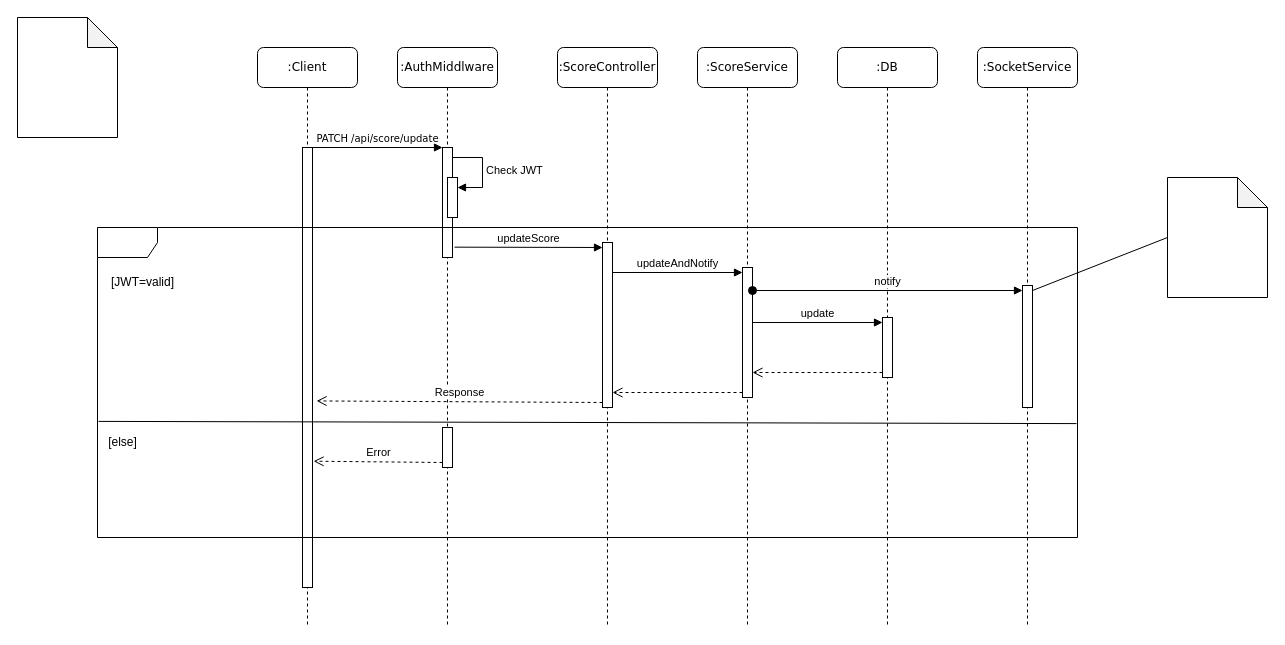
This 1285x645 diagram has some shape labels left out. The shapes that lost their labels are listed below. From the top down, each one's box as (x1, y1, x2, y2) in pixels, then its label:
(16, 16, 118, 138): See response and error type in openAPI specification
(1166, 176, 1268, 298): Send WebSocket Event: `scoreboard Update` to all active clients
(96, 226, 1078, 538): ALT
